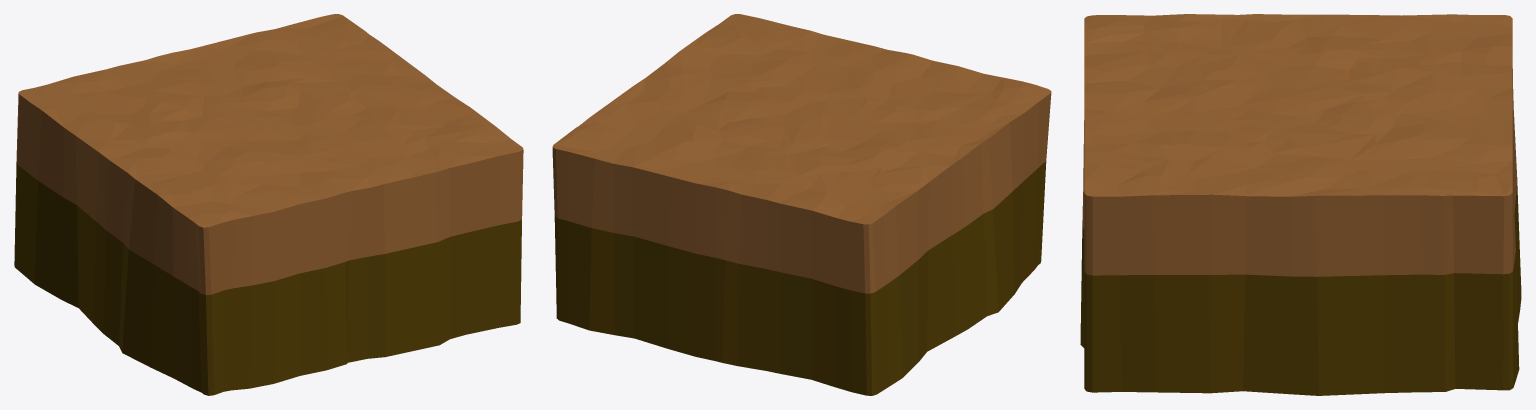
3 views of the same model, side by side, from view 1: azimuth 30°, elevation 25°; view 2: azimuth 150°, elevation 25°; view 3: azimuth 270°, elevation 25° (orthographic). The views are drawn at different scales.
Parts seen in each view (by area): view 1: island:ground3; view 2: island:ground3; view 3: island:ground3.
Boxes of the visible parts, <box> form: island:ground3: <box>14,14,523,395</box>; island:ground3: <box>552,14,1051,395</box>; island:ground3: <box>1080,14,1521,395</box>.
Size of the model in its own units: 20.78 by 10.22 by 20.34.
